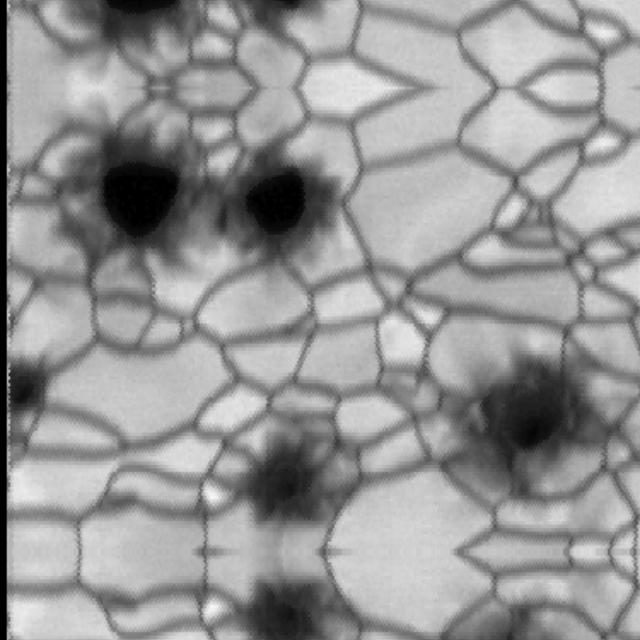good_void: (48, 99, 355, 302), (421, 330, 632, 519), (63, 0, 350, 79), (221, 424, 353, 545), (222, 561, 353, 640), (434, 587, 614, 640), (8, 358, 51, 495)
